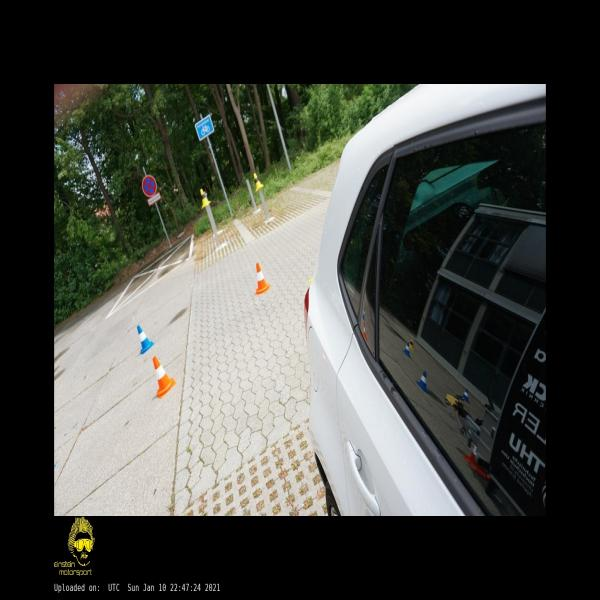blue_cone: (137, 325, 154, 354)
orange_cone: (152, 356, 175, 398), (256, 262, 270, 294)
yellow_cone: (200, 188, 211, 209), (252, 173, 264, 192)
